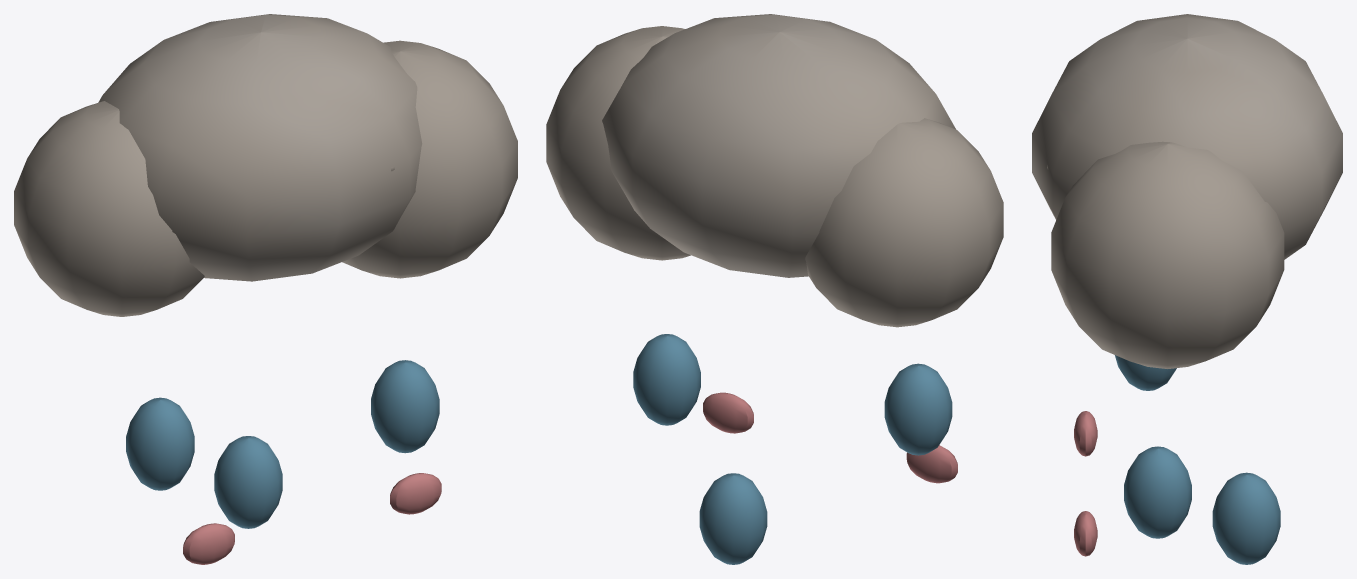
3 renders of one model, left to right at view 1: azimuth 30°, elevation 25°; view 2: azimuth 150°, elevation 25°; view 3: azimuth 270°, elevation 25°, orthographic.
Visible parts, largest first — view 1: pet_p41d1767e; view 2: pet_p41d1767e; view 3: pet_p41d1767e.
Part boxes in pixels (<box>): pet_p41d1767e: <box>14,14,517,564</box>; pet_p41d1767e: <box>546,14,1003,564</box>; pet_p41d1767e: <box>1032,14,1342,564</box>.
Size of the model in its own units: 0.5265 by 0.577 by 0.3151.
